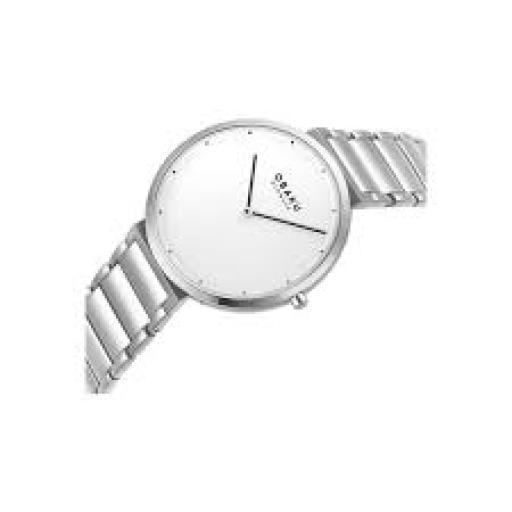KolSaati: (56, 52, 442, 452)
